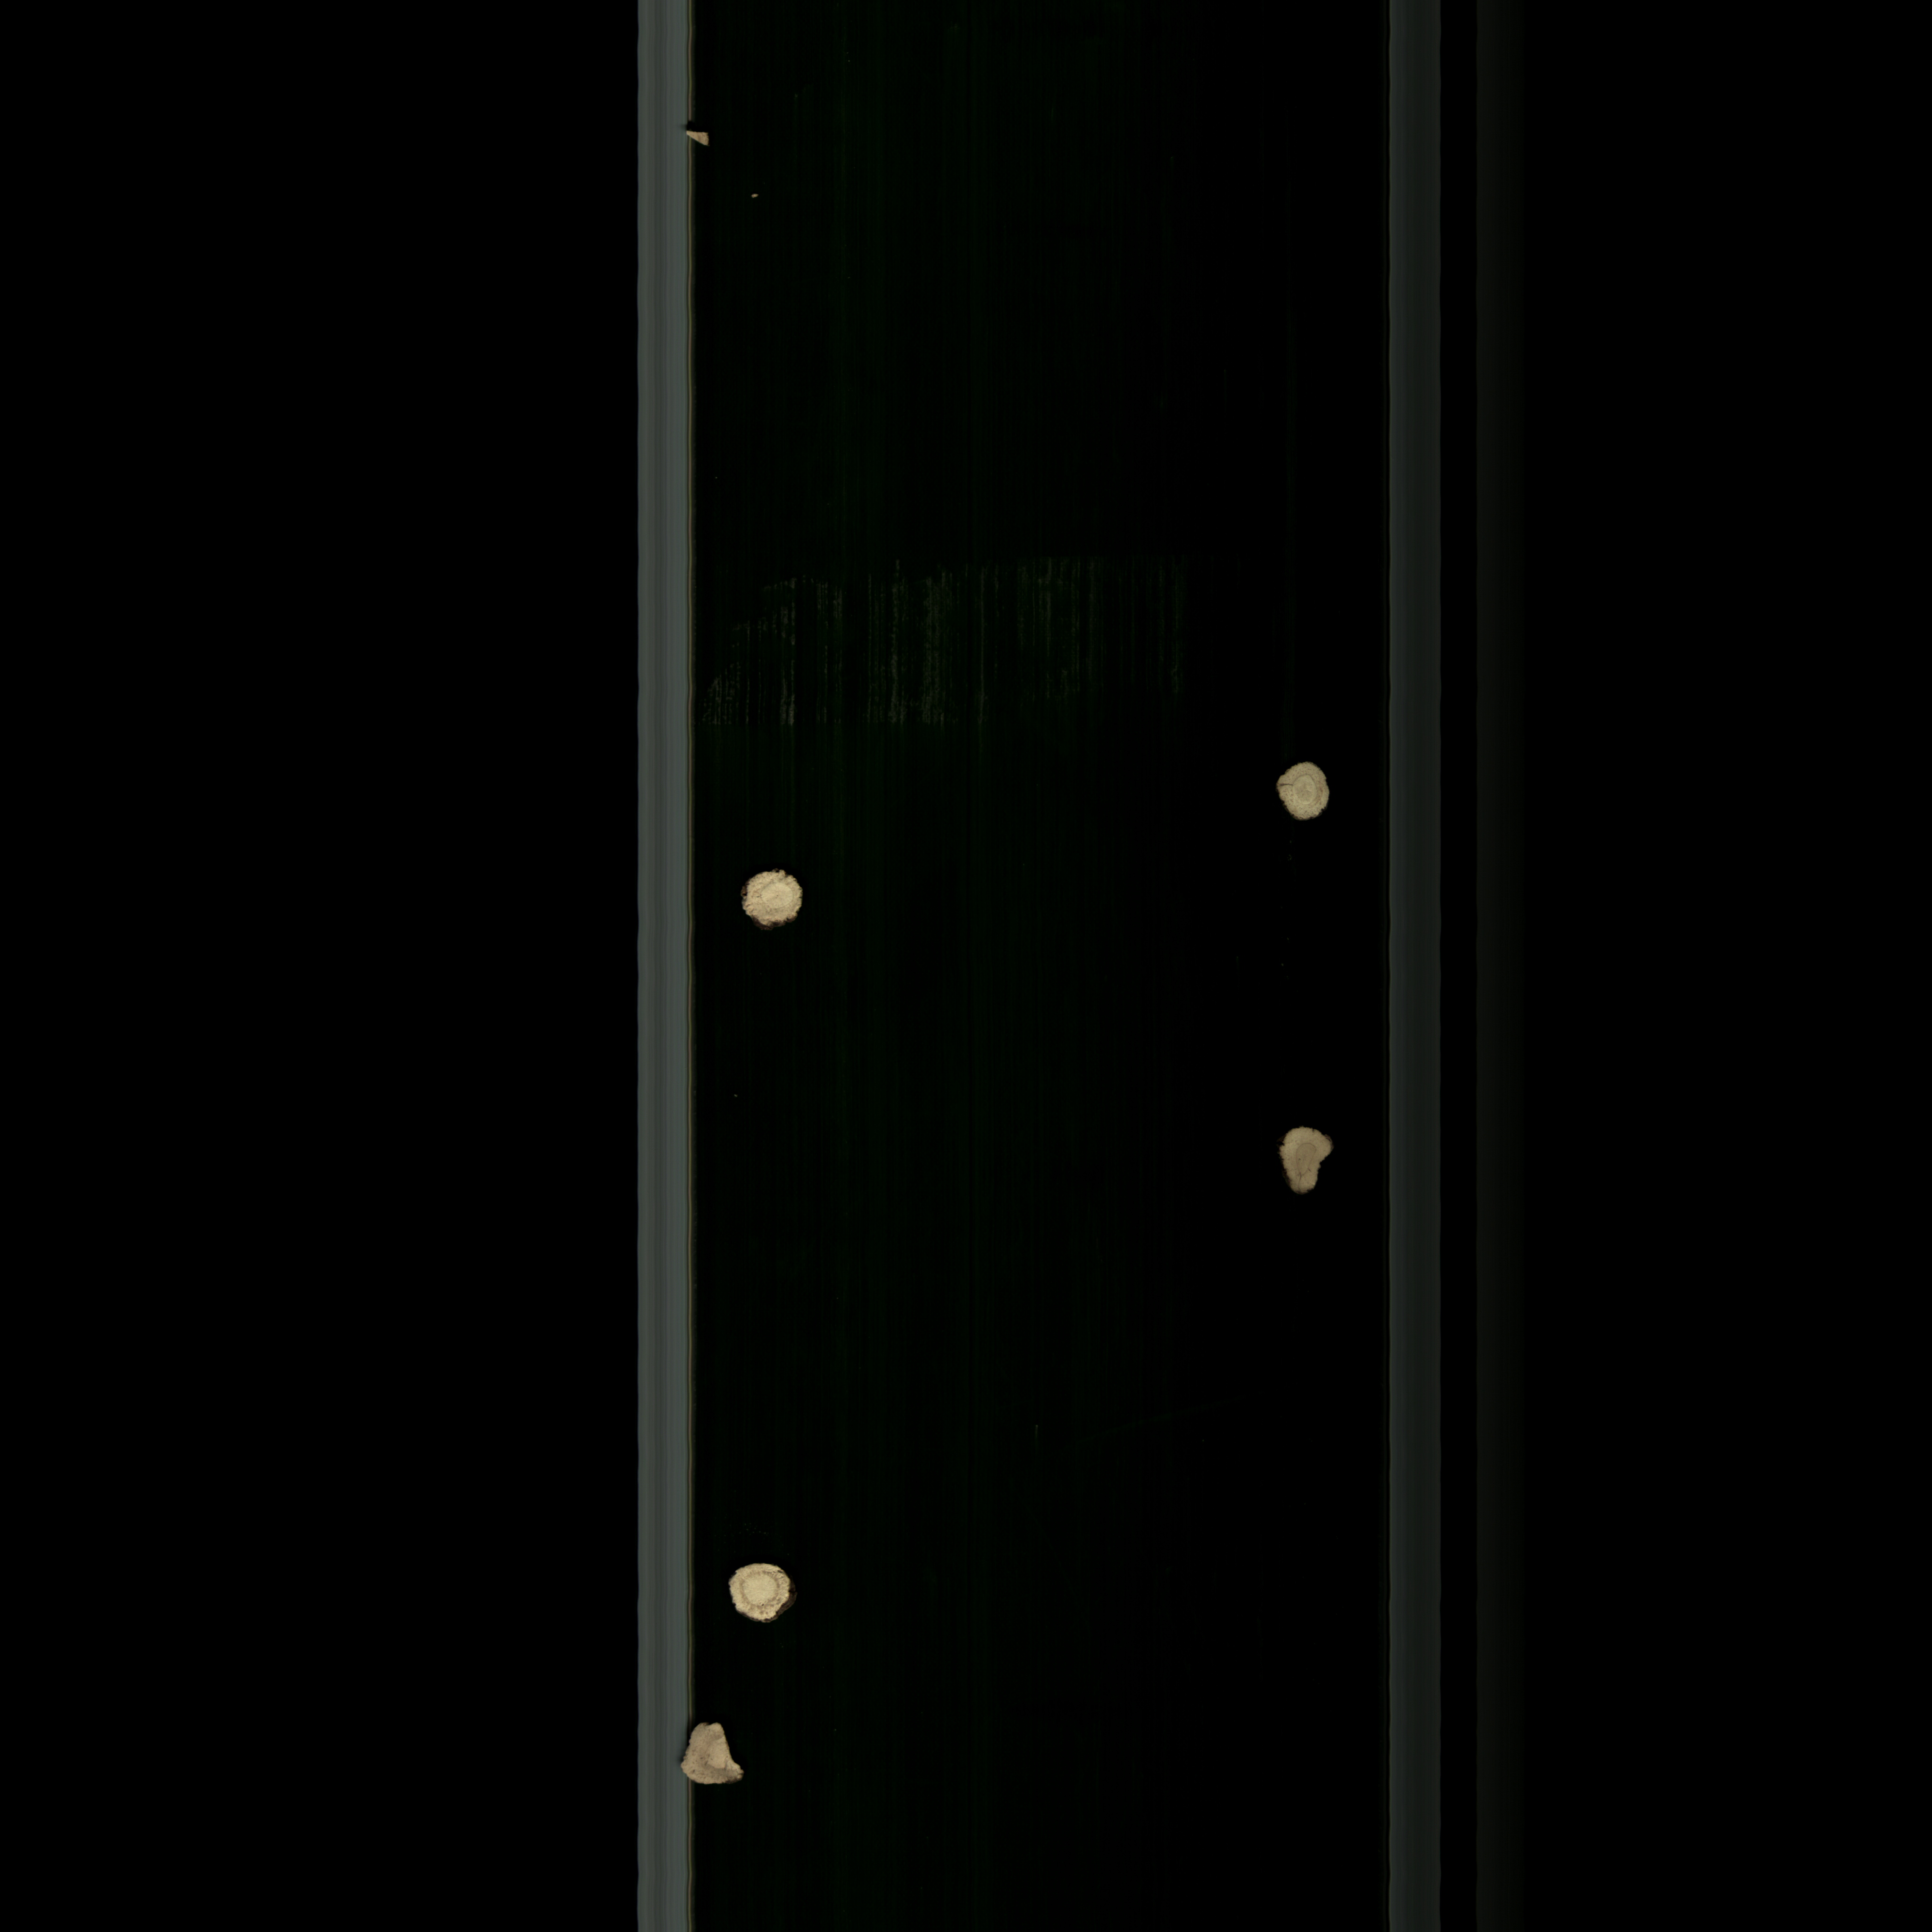debris: (669, 1714, 763, 1794)
distortion: (1274, 1123, 1345, 1203)
dreg: (683, 126, 718, 157)
